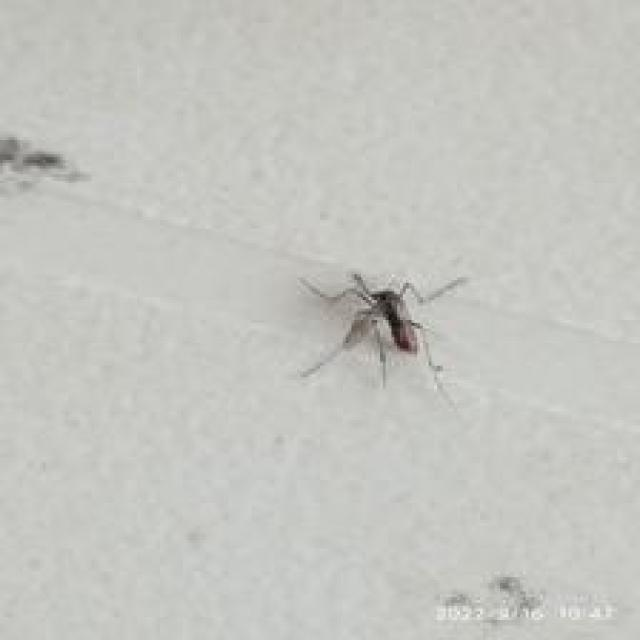Aedes albopictus: (294, 267, 469, 410)
